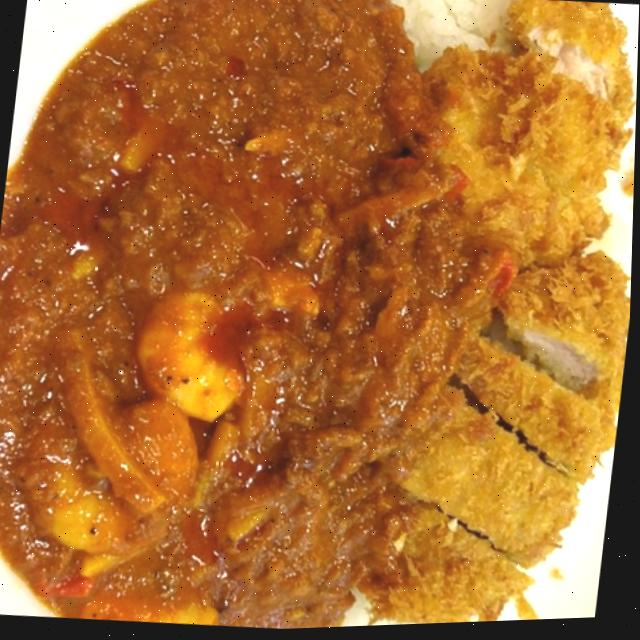牛肉菜式: (165, 0, 640, 635)
